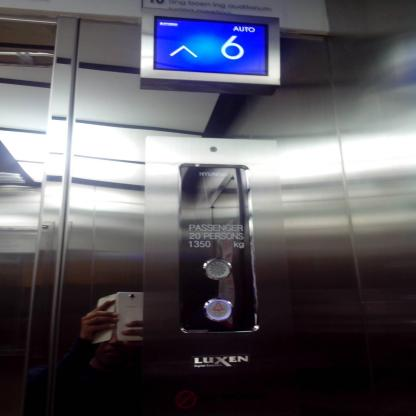alarm: (203, 298, 234, 322)
led: (149, 13, 272, 77)
speaker: (202, 258, 232, 280)
